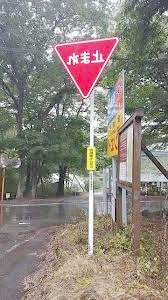Regulatory_sign_triangle: (53, 34, 125, 103)
